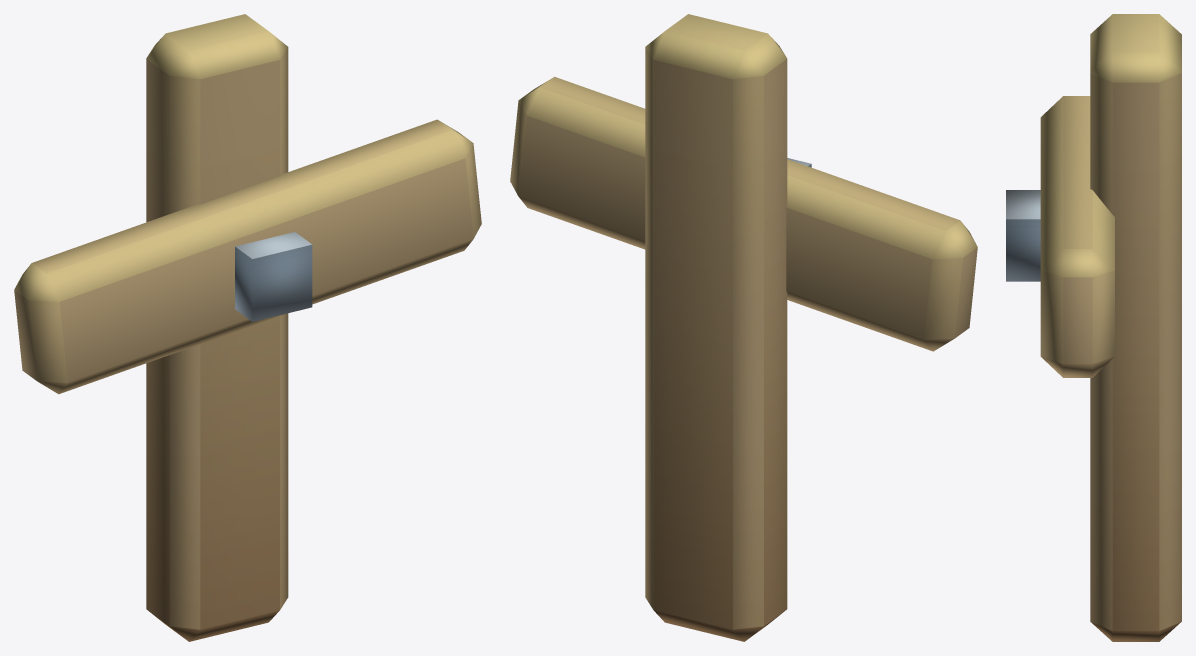
The model's file is cross_wood.fbx.
The picture shows the model from 3 angles, left to right: view 1: azimuth 30°, elevation 25°; view 2: azimuth 150°, elevation 25°; view 3: azimuth 270°, elevation 25°; orthographic projection.
Visible parts, largest first — view 1: cross_wood; view 2: cross_wood; view 3: cross_wood.
Boxes of the visible parts, x1=… form: cross_wood: x1=14, y1=14, x2=481, y2=641; cross_wood: x1=510, y1=14, x2=977, y2=641; cross_wood: x1=1006, y1=14, x2=1181, y2=641.
Size of the model in its own units: 92.59 by 116 by 31.22.
1 material, 1 textured.
